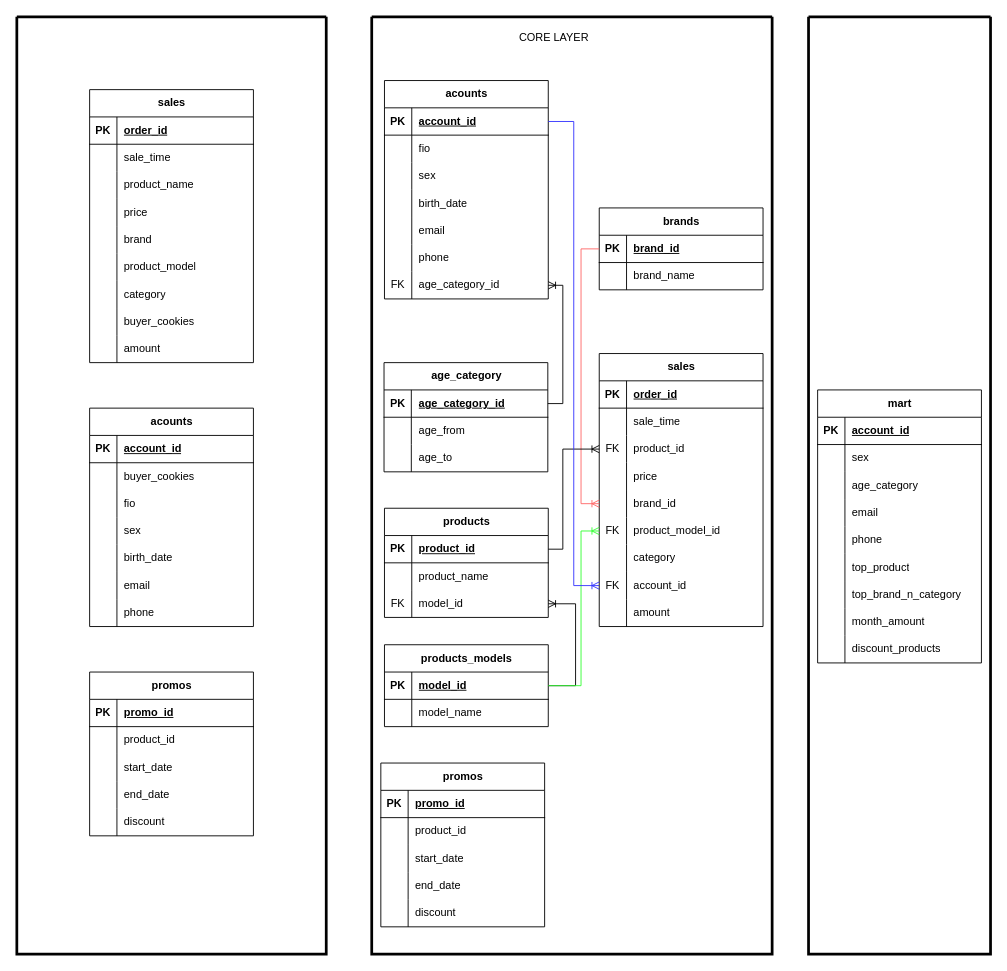
Image size: 1007x971. Some labels were removed from this diagram. Each missing label, with the centre of its shape:
MART LAYER: pixel 899 485
RAW LAYER: pixel 171 485
